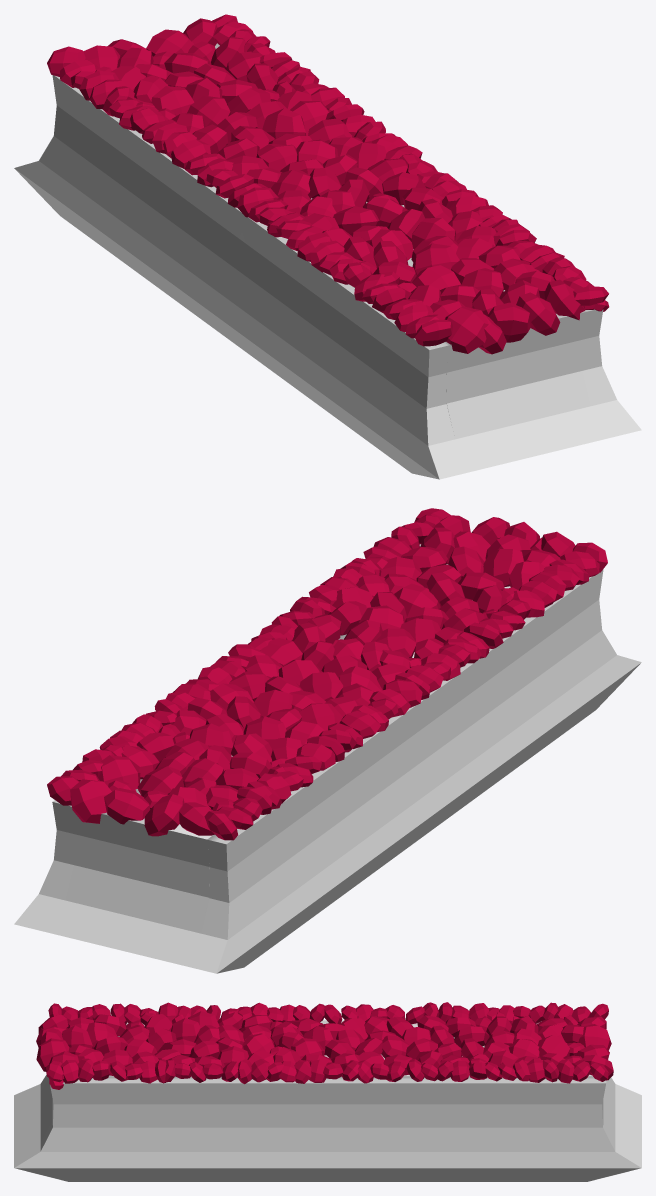
Rendered from plataformadano3partes.fbx.
3 renders of one model, top to bottom at view 1: azimuth 30°, elevation 25°; view 2: azimuth 150°, elevation 25°; view 3: azimuth 270°, elevation 25°, orthographic. The views are drawn at different scales.
Visible parts, largest first — view 1: plataformadanolavaesq, plataformadanolavameio, plataformadanolavadir; view 2: plataformadanolavaesq, plataformadanolavameio, plataformadanolavadir; view 3: plataformadanolavadir, plataformadanolavameio, plataformadanolavaesq.
Part boxes in pixels (<box>): plataformadanolavaesq: <box>14,46,472,479</box>; plataformadanolavameio: <box>83,18,607,471</box>; plataformadanolavadir: <box>212,14,641,438</box>; plataformadanolavaesq: <box>183,542,641,973</box>; plataformadanolavameio: <box>47,515,575,965</box>; plataformadanolavadir: <box>14,508,450,932</box>; plataformadanolavadir: <box>14,1058,641,1181</box>; plataformadanolavameio: <box>14,1011,641,1155</box>; plataformadanolavaesq: <box>14,1002,641,1106</box>.
Bounding box in the file's own units: 1.34 × 1.01 × 4.89.
